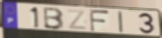1: (29, 7, 41, 29)
3: (138, 12, 157, 36)
B: (43, 7, 66, 31)
F: (89, 9, 111, 33)
I: (117, 11, 125, 34)
Z: (65, 9, 88, 32)
